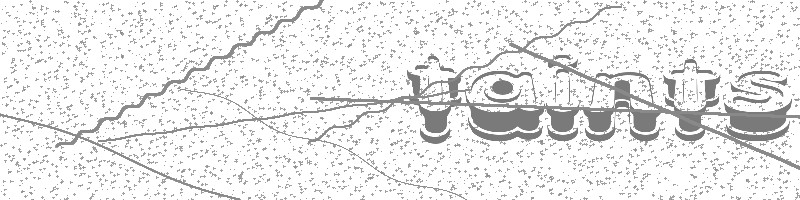a: (464, 69, 545, 143)
i: (543, 52, 581, 142)
n: (582, 70, 662, 143)
s: (723, 66, 791, 141)
t: (405, 52, 464, 144), (661, 55, 722, 141)
